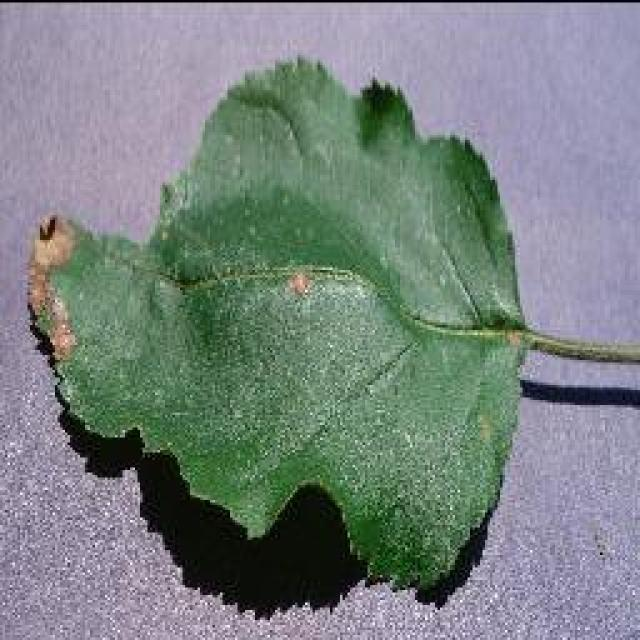Black_rot: (22, 52, 638, 608)
